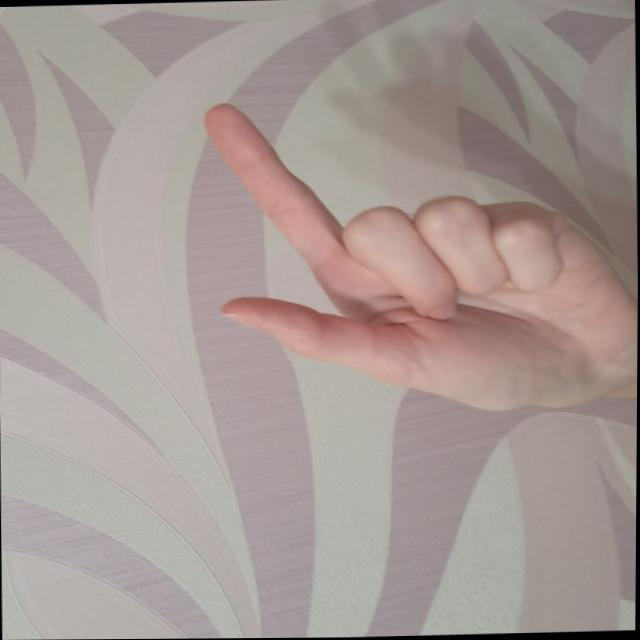g: (191, 86, 628, 433)
